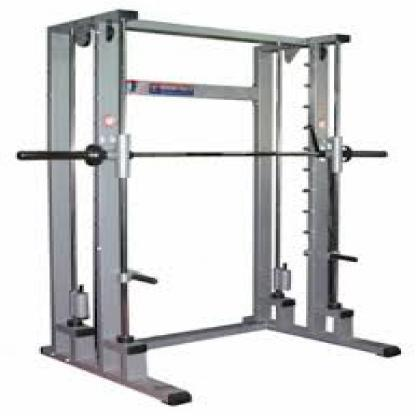smith machine: (16, 7, 402, 408)
